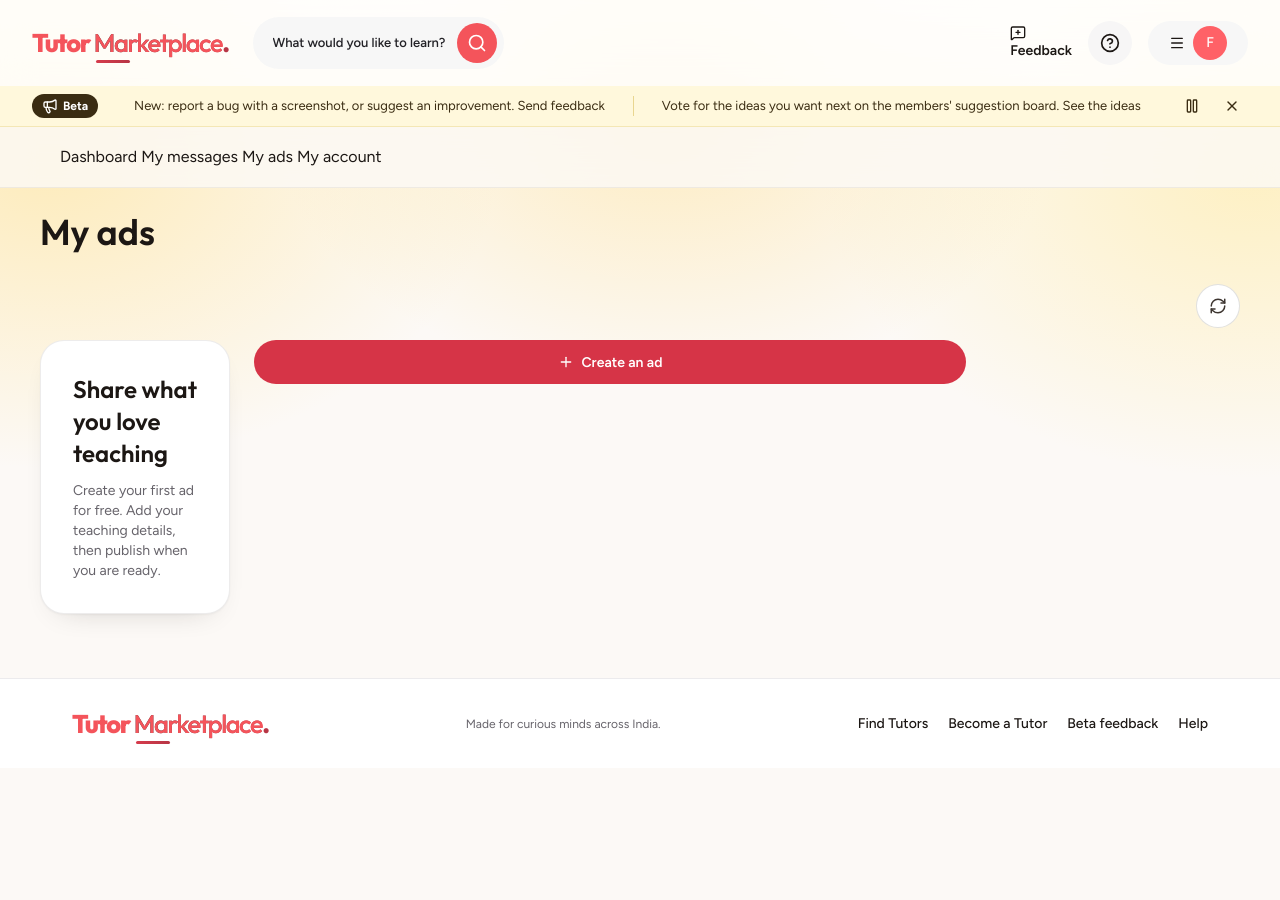
reuses saved details without changing the shared profile or requiring an online city
This screenshot has width=1280, height=900.
Click the button "Create an ad". click: point(610, 362)
box: [254,340,966,384]
(page scrolled)
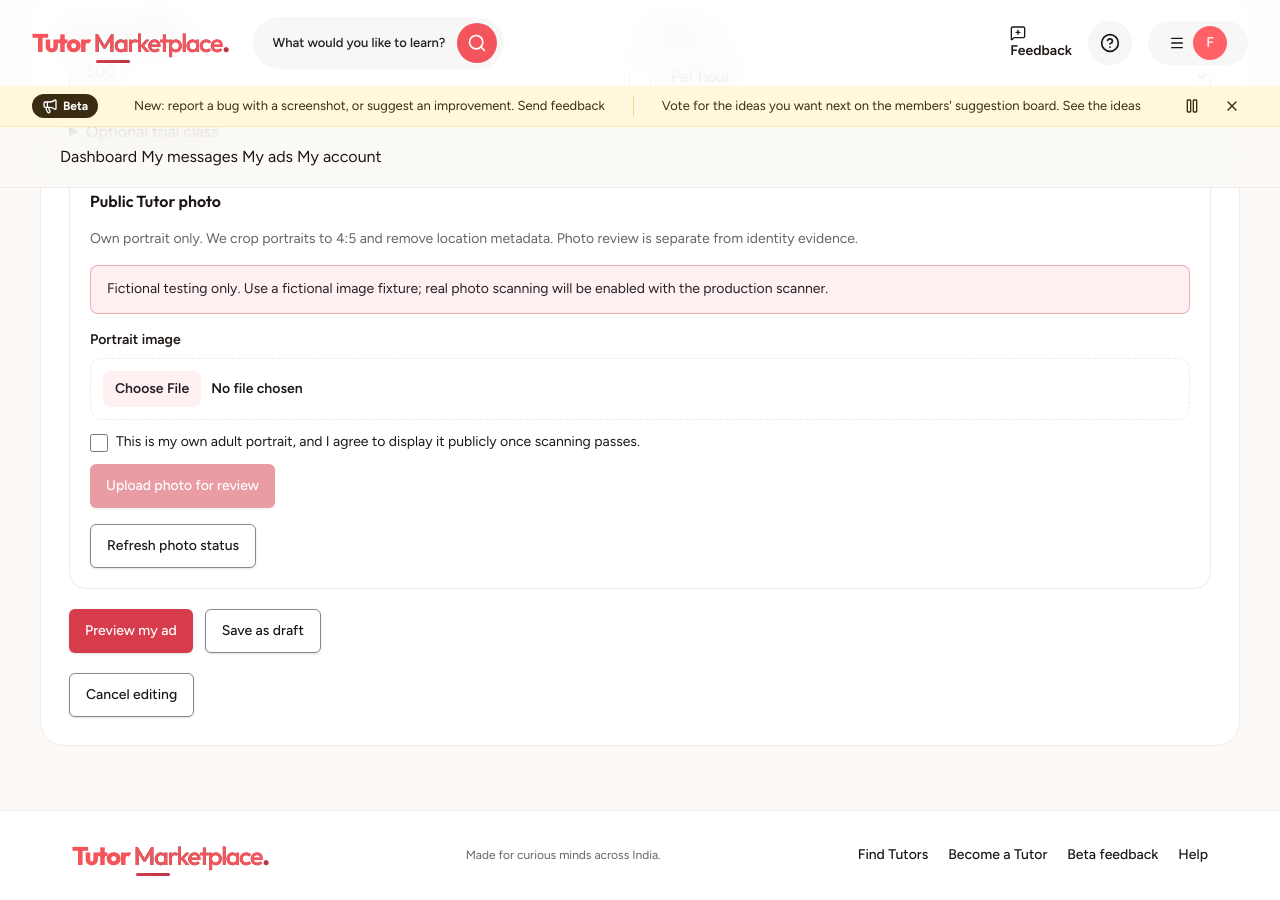
expect the number field labelled "Tuition rate (INR)" holds "500": met, box [69,47,630,97]
Click the button "Preview my ad". click: point(131, 631)
box: [69,609,193,653]
(page scrolled)
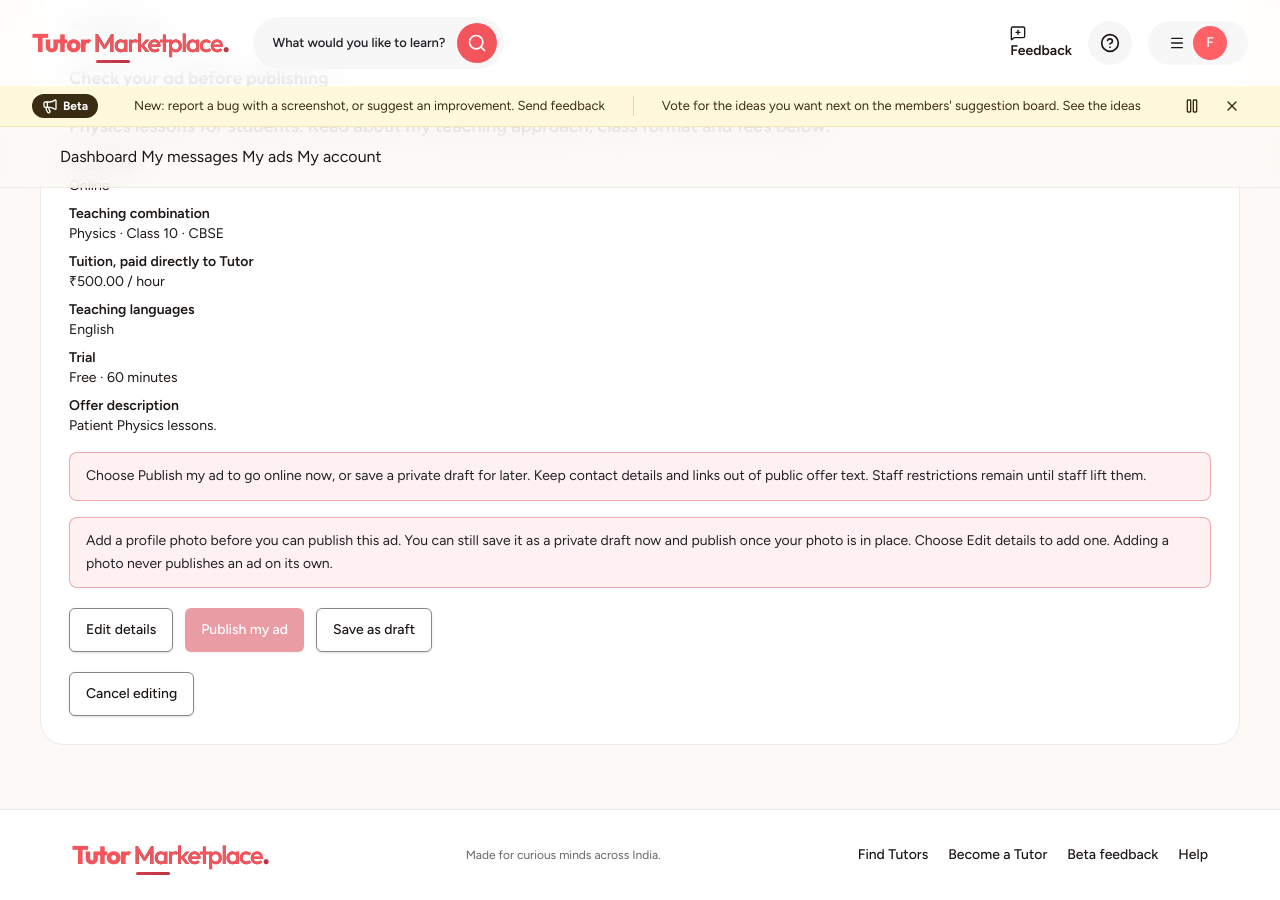
expect the heading "Check your ad before publishing" is shown: met, box [69,66,329,89]
expect the button "Publish my ad" is disabled: met, box [185,608,304,652]
Click the button "Edit details". click: point(121, 630)
box: [69,608,173,652]
(page scrolled)
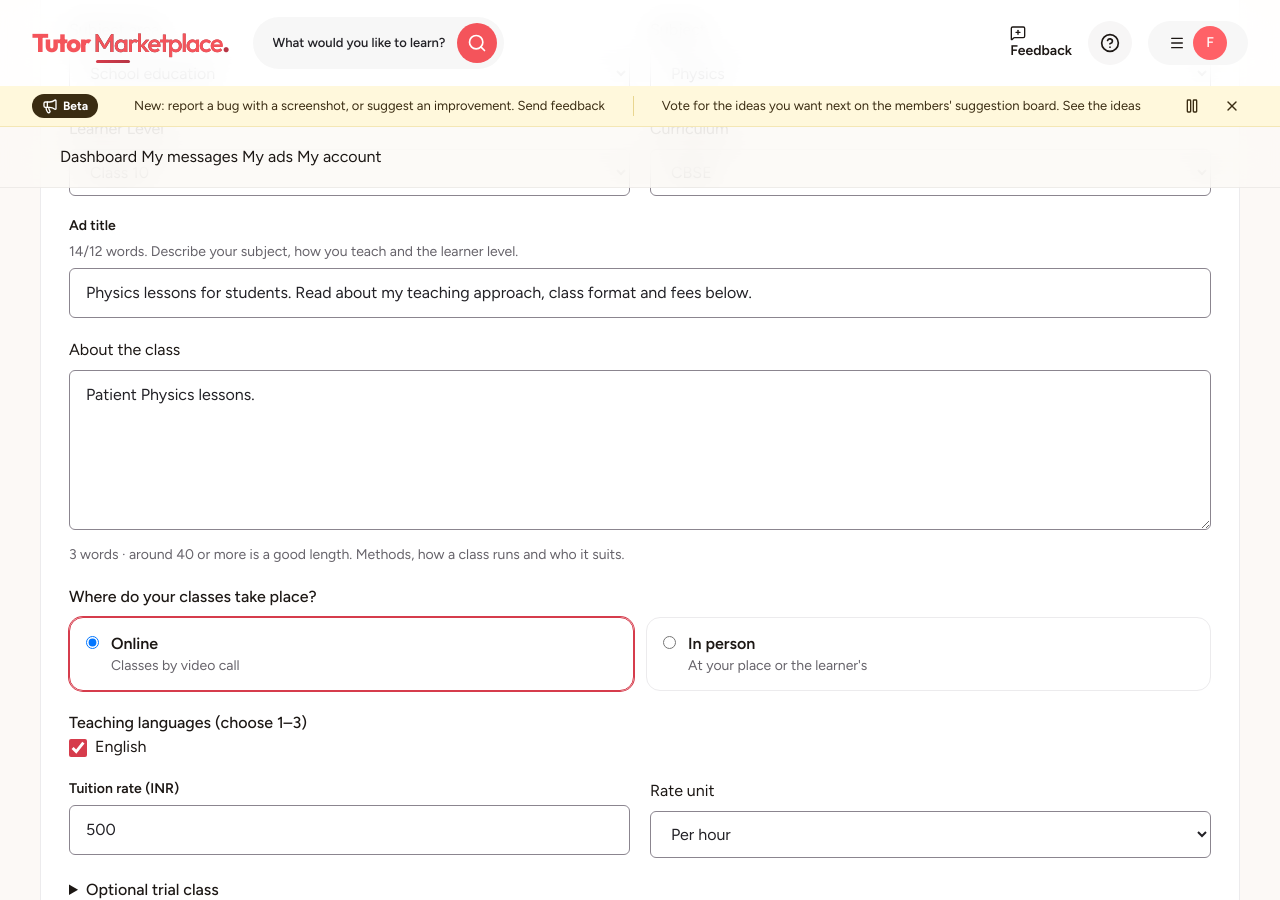
expect the text box labelled "About the class" holds "Patient Physics lessons.": met, box [69,370,1211,530]
